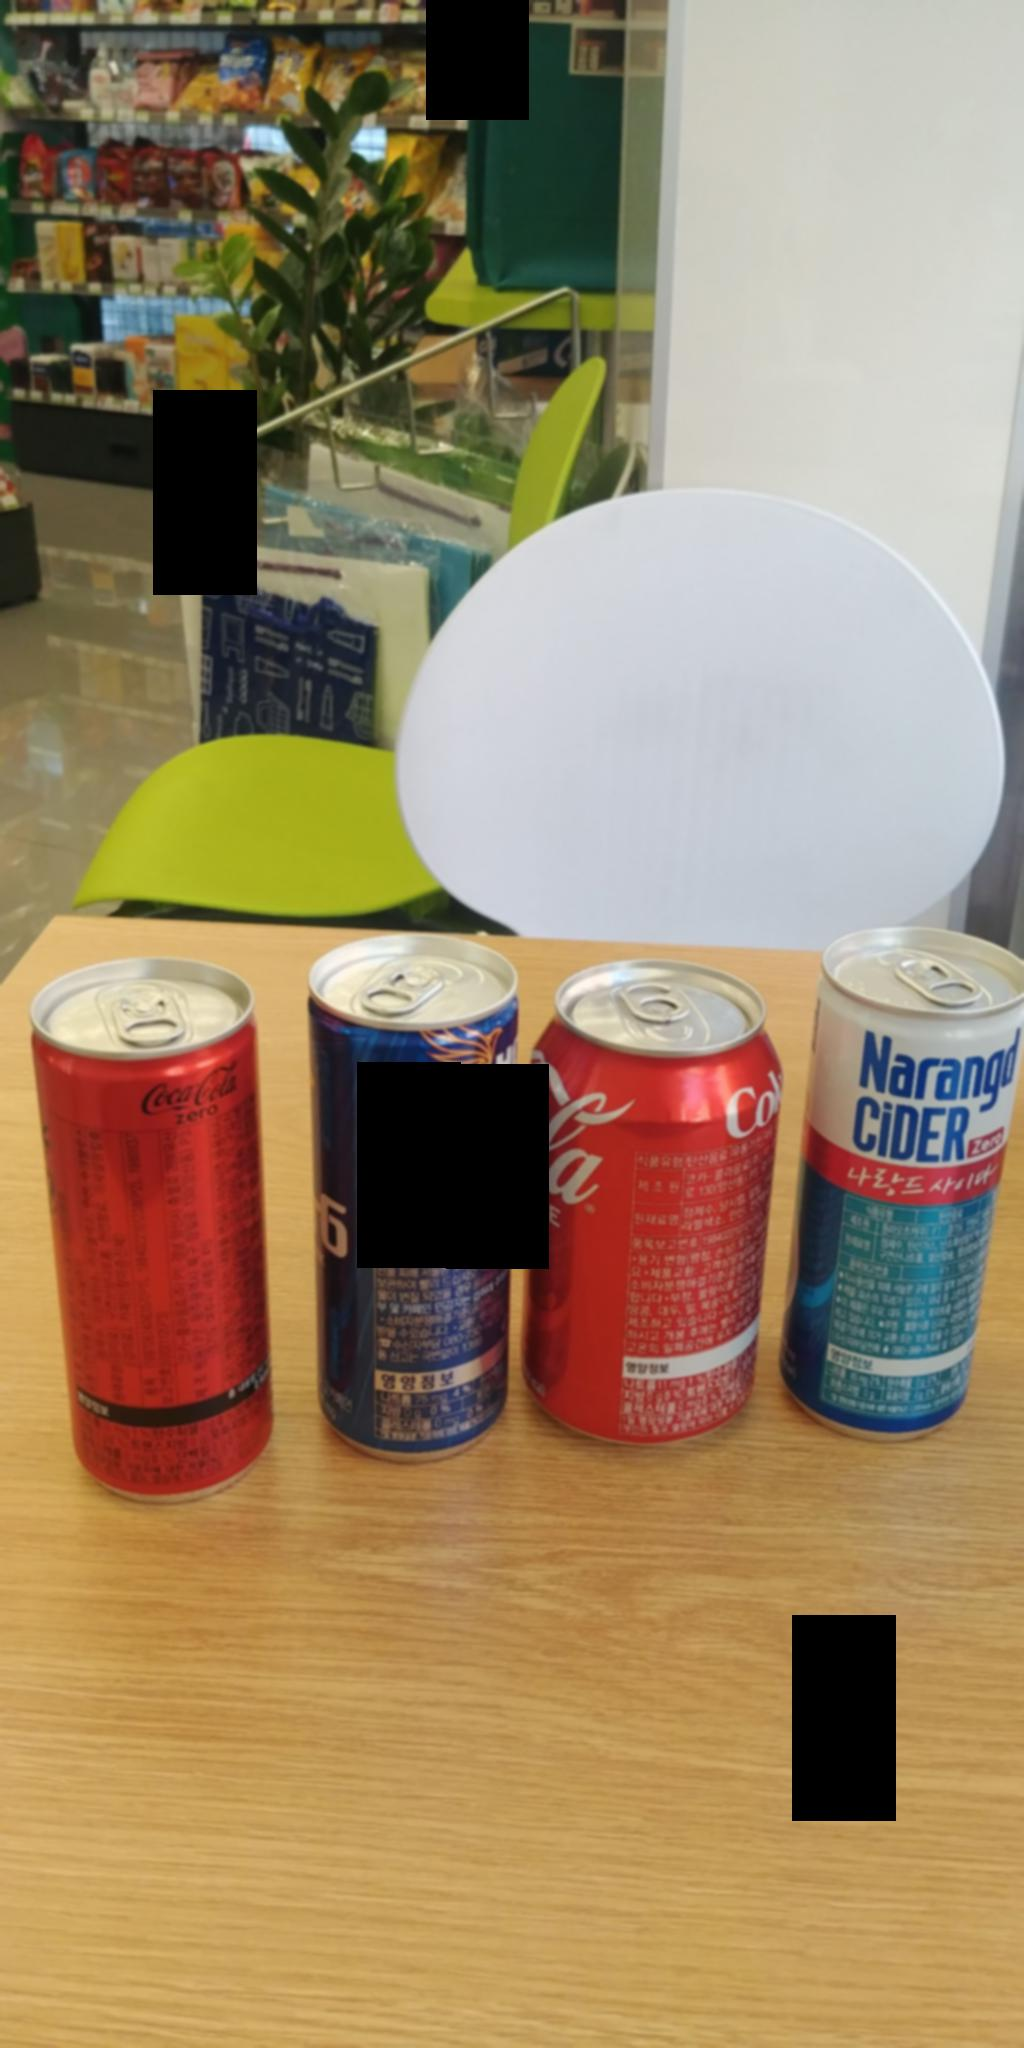cocacola: (522, 965, 777, 1479)
hotsix_org: (298, 925, 503, 1458)
narangdcider: (778, 886, 1023, 1430)
